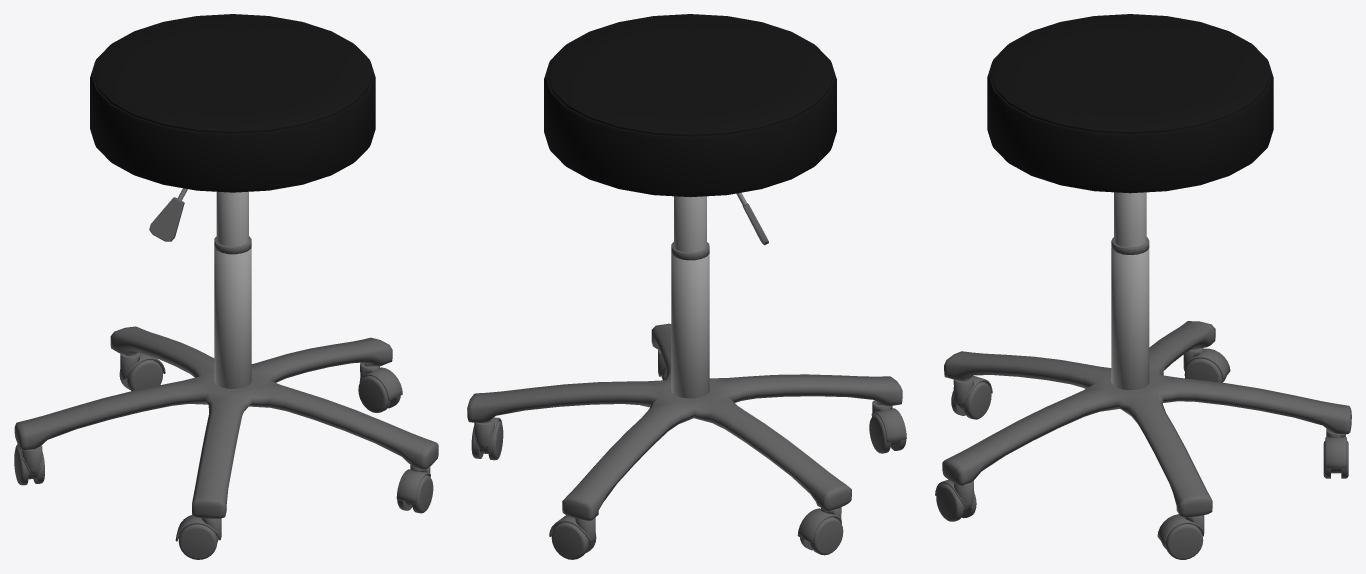
The model's file is RollingChair.fbx.
3 renders of one model, left to right at view 1: azimuth 30°, elevation 25°; view 2: azimuth 150°, elevation 25°; view 3: azimuth 270°, elevation 25°, orthographic. The views are drawn at different scales.
Parts seen in each view (by area): view 1: Seat, Leg, Metal_3, Wheel_27, Handle_1_2; view 2: Seat, Leg, Metal_3, Wheel_27; view 3: Seat, Leg, Metal_3, Wheel_27.
Boxes of the visible parts, <box> form: Seat: <box>90,14,375,192</box>; Leg: <box>14,326,438,518</box>; Metal_3: <box>214,191,251,388</box>; Wheel_27: <box>14,352,433,559</box>; Handle_1_2: <box>149,188,187,241</box>; Seat: <box>544,14,836,197</box>; Leg: <box>467,323,902,520</box>; Metal_3: <box>671,196,709,398</box>; Wheel_27: <box>471,349,906,559</box>; Seat: <box>987,14,1273,193</box>; Leg: <box>942,321,1351,517</box>; Metal_3: <box>1111,192,1149,390</box>; Wheel_27: <box>935,348,1348,559</box>.
Bounding box in the file's own units: 51.65 × 52.94 × 50.05.
